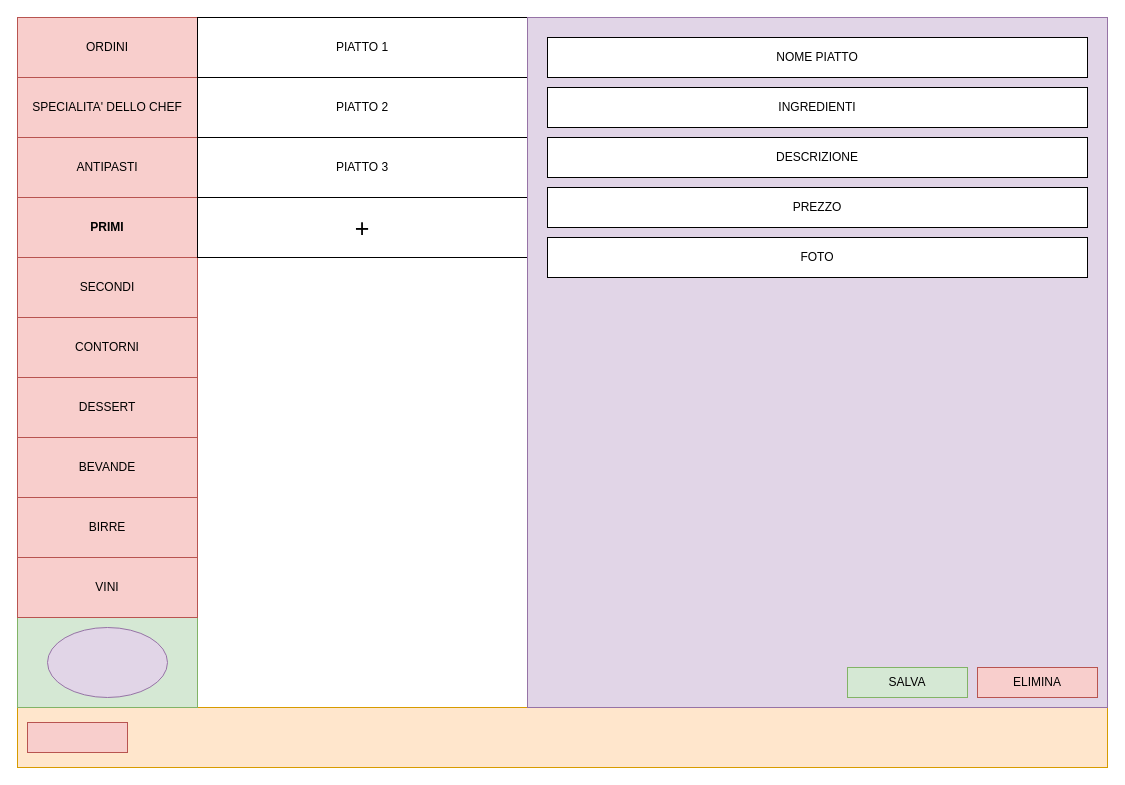
Image size: 1125x785. Some labels were removed from this diagram. Each missing label, with the box of its shape:
CAMERIERE: (46, 626, 168, 698)
LOGOUT: (26, 722, 128, 752)
